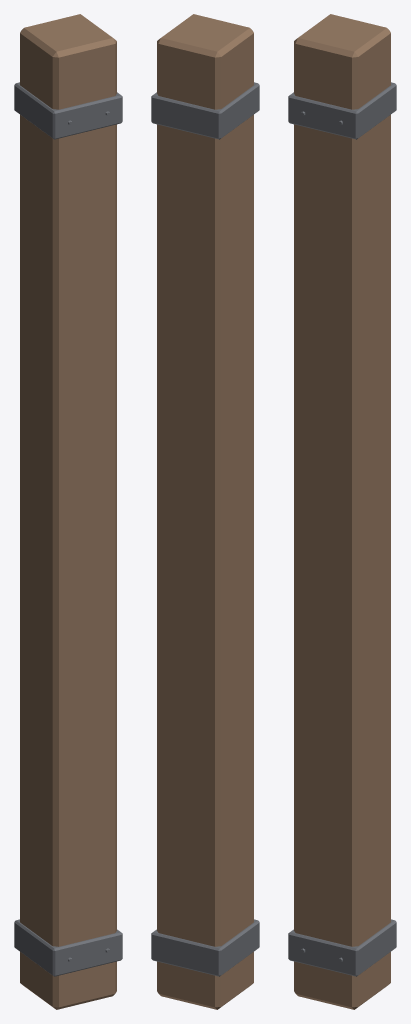
Rendered from Garage_Post.glb.
3 renders of one model, left to right at view 1: azimuth 30°, elevation 25°; view 2: azimuth 150°, elevation 25°; view 3: azimuth 330°, elevation 25°, orthographic.
Visible parts, largest first — view 1: Garage_Post; view 2: Garage_Post; view 3: Garage_Post.
Part boxes in pixels (x1,y1,x2,y2): Garage_Post: (14,14,122,1009); Garage_Post: (151,14,259,1009); Garage_Post: (288,14,396,1009).
Size of the model in its own units: 0.26 by 3.4 by 0.265.
